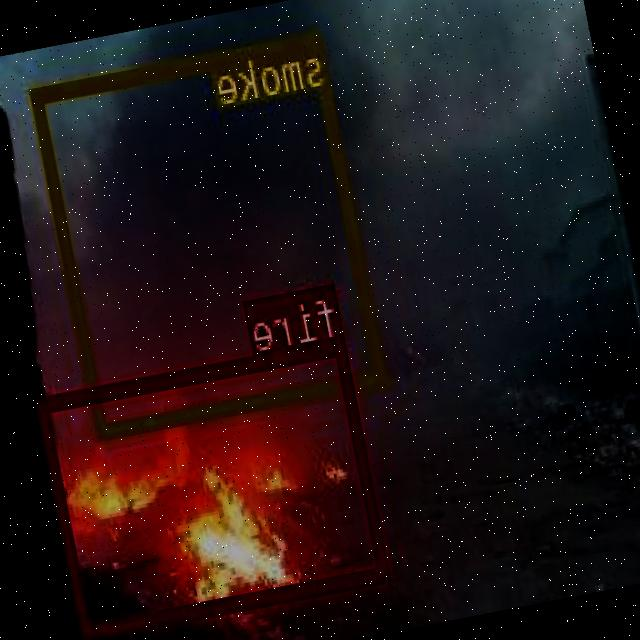fire: (38, 336, 394, 638)
smoke: (32, 30, 390, 438)
